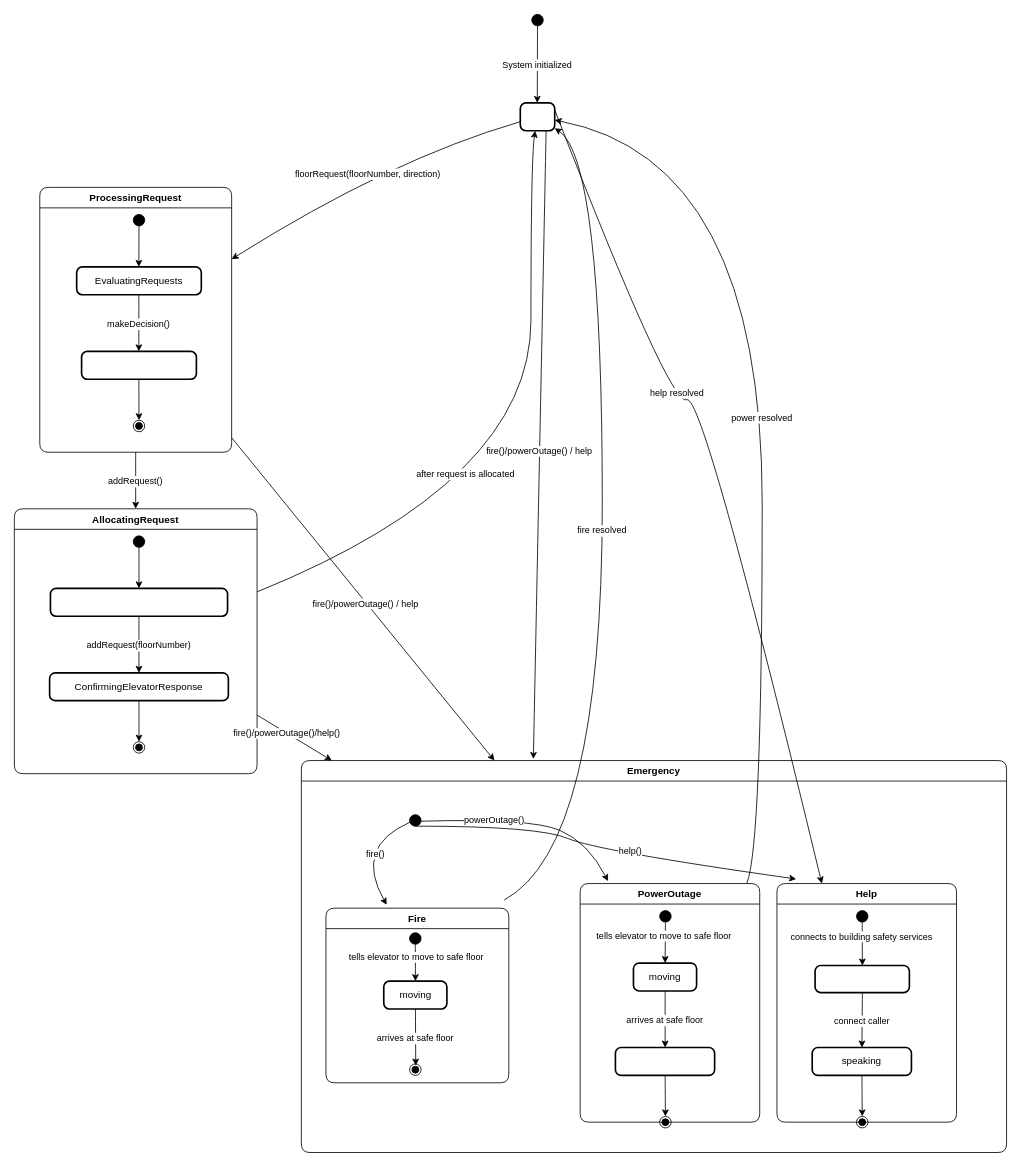
The diagram is 1021 pixels wide and 1167 high, and some of its shapes have lost their labels. The centre of each missing label's shape, as x and y in pixels:
"arrived" belongs at (x=664, y=1061).
"building safety services connected" belongs at (x=862, y=978).
"Idle" belongs at (x=537, y=116).
"SelectingElevator" belongs at (x=138, y=365).
"SendingCommandToElevator" belongs at (x=138, y=602).
